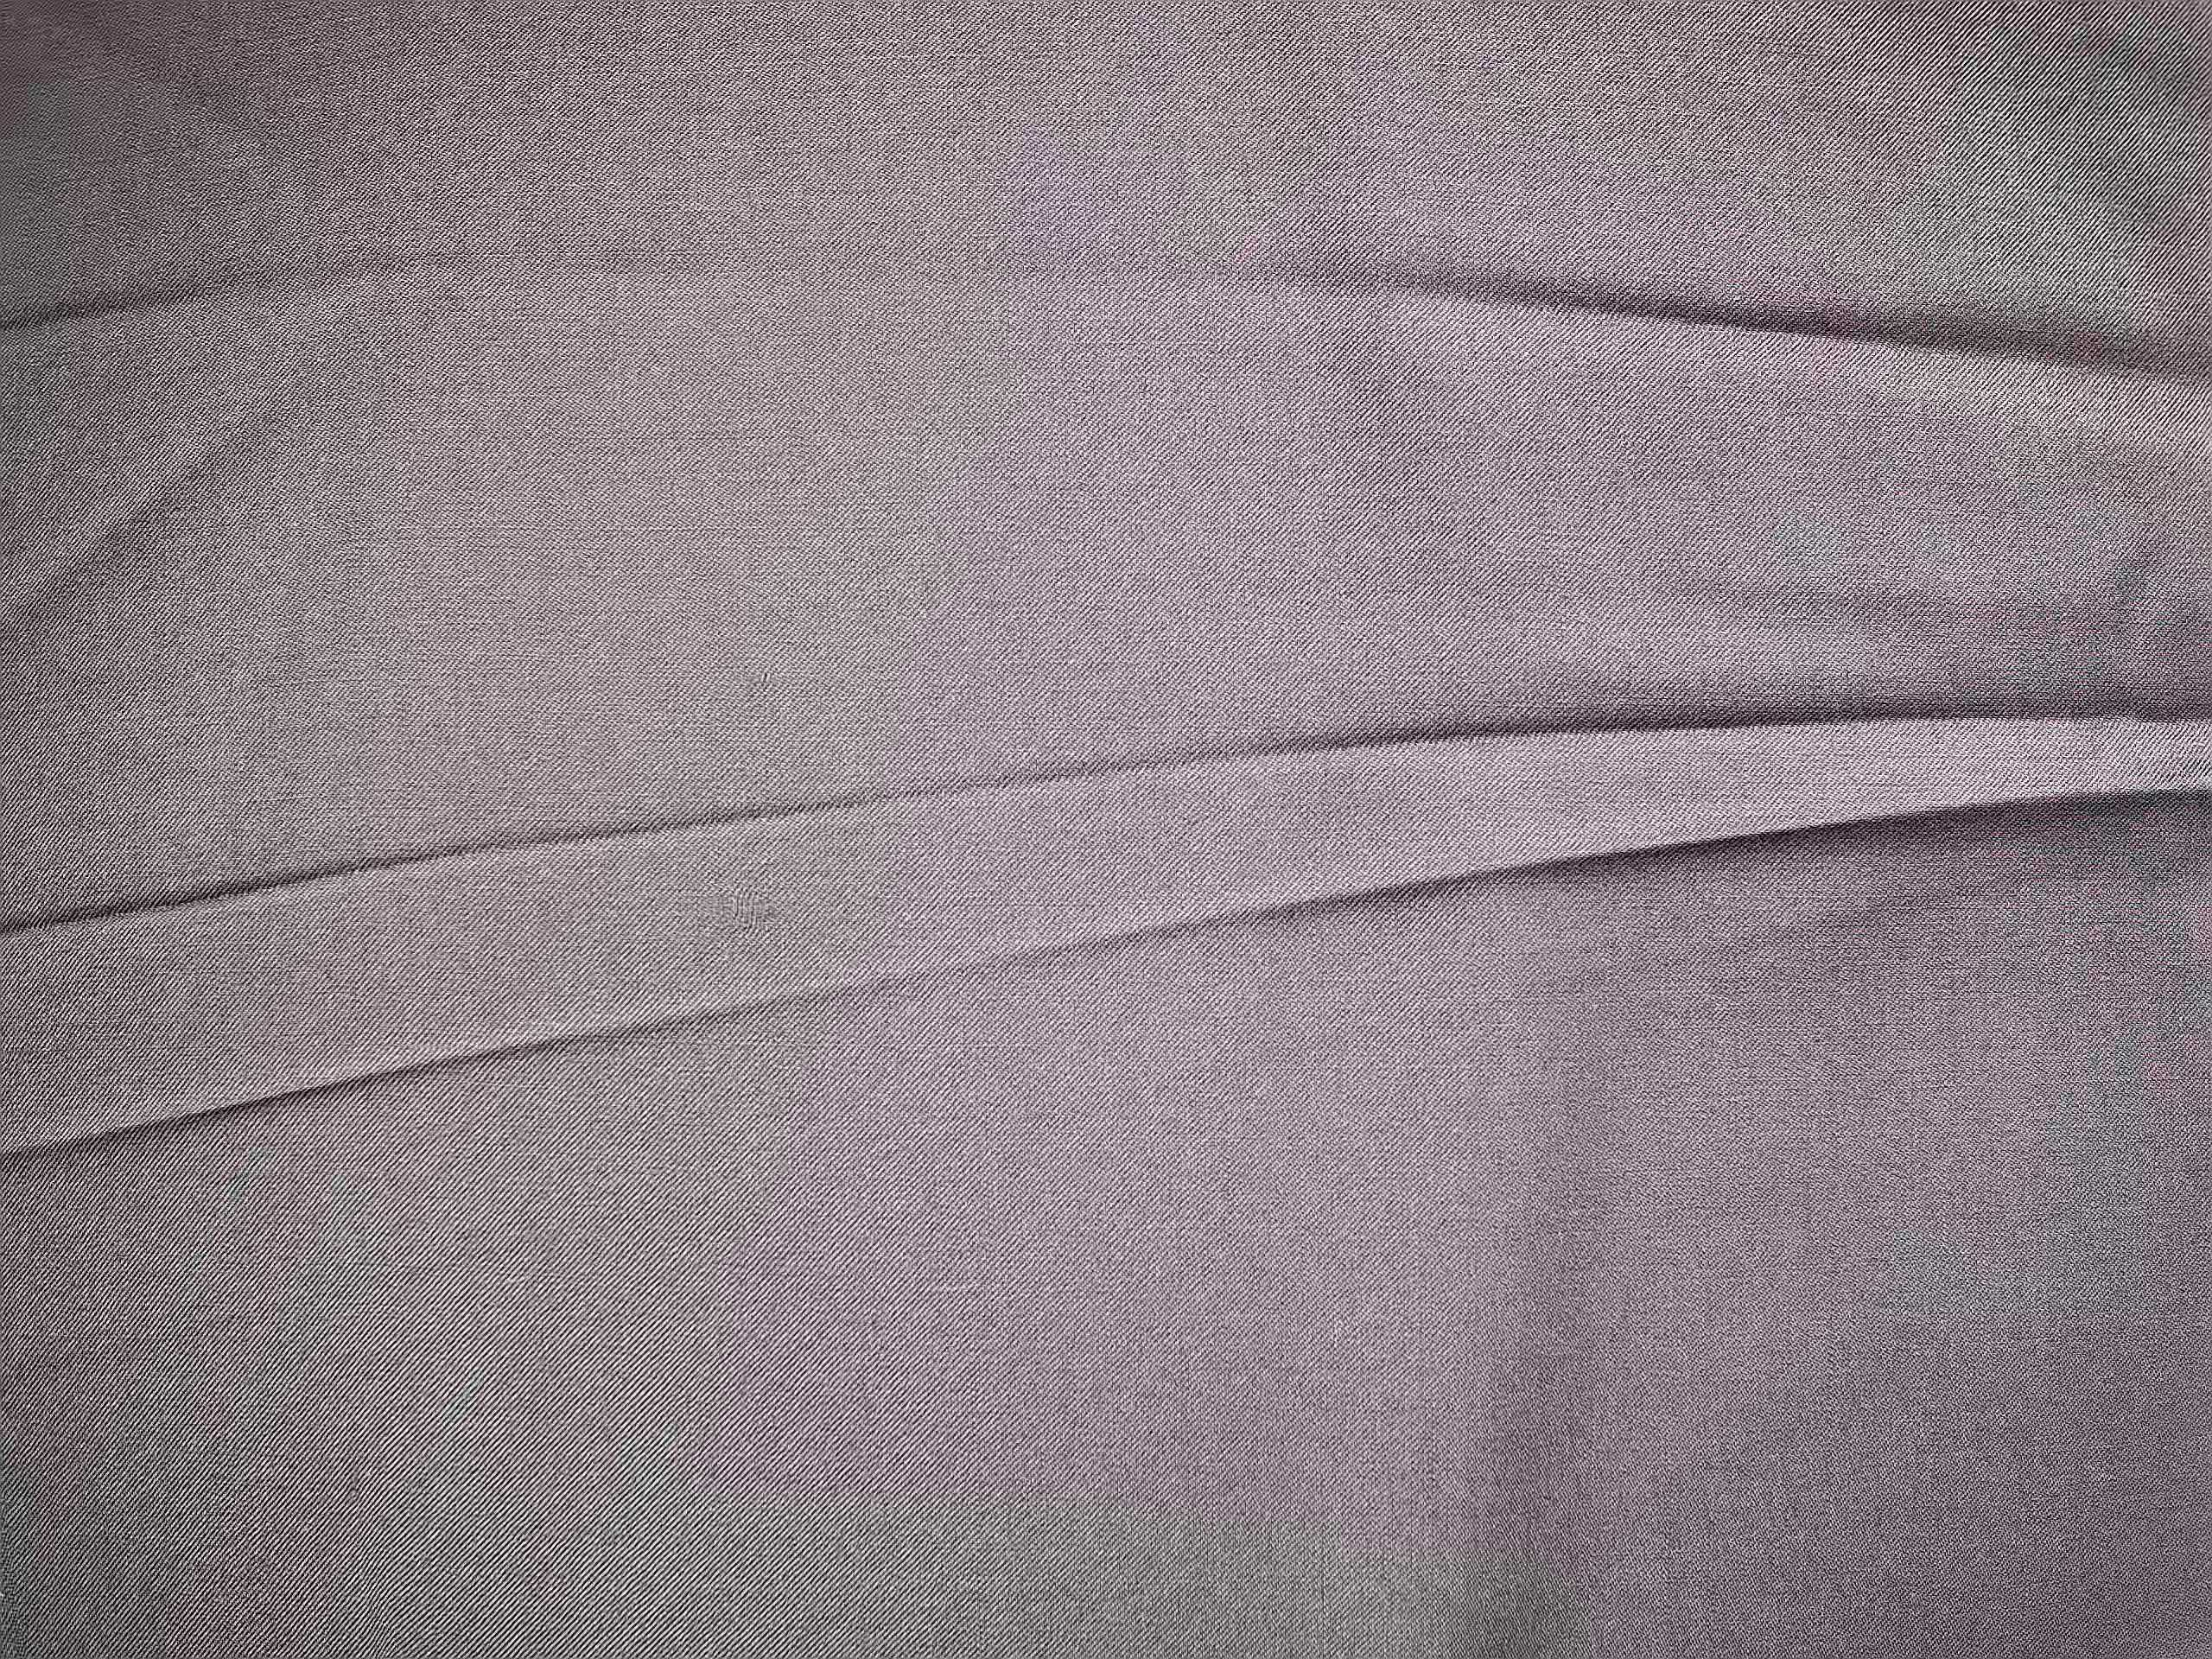brushed-hole: (716, 873, 789, 953), (744, 659, 784, 704)
